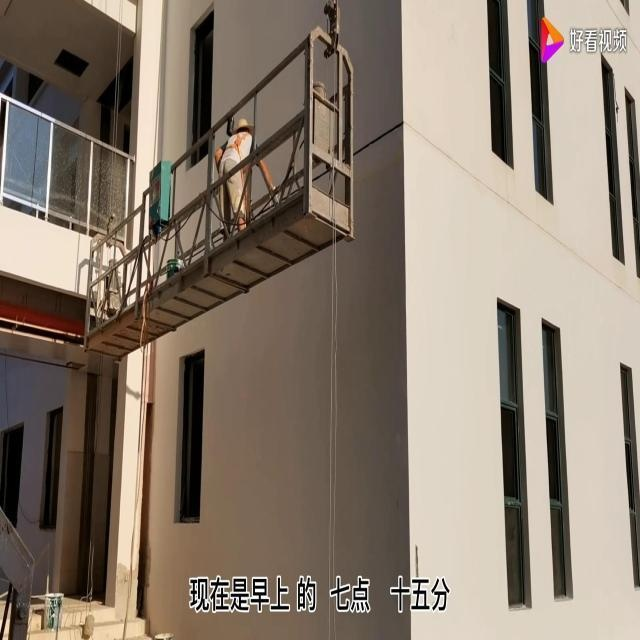Arnes_seguridad: (221, 126, 252, 157)
